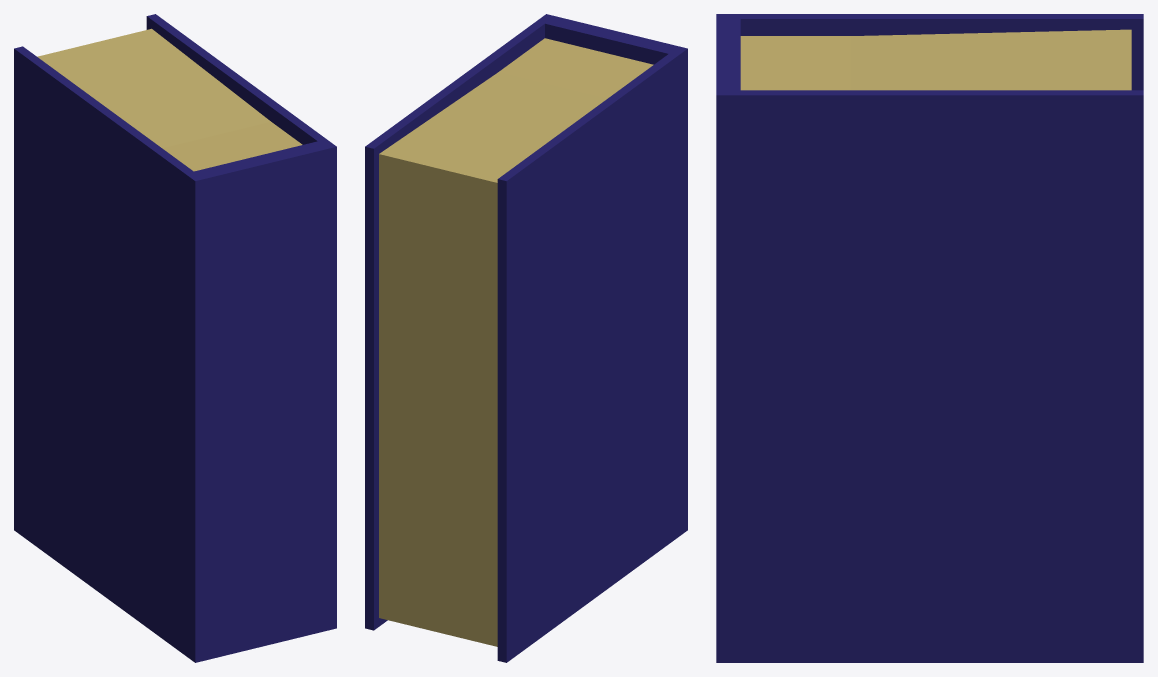
The model's file is CPI441_Fur_BookSingular_Blue.fbx.
3 views of the same model, side by side, from view 1: azimuth 30°, elevation 25°; view 2: azimuth 150°, elevation 25°; view 3: azimuth 270°, elevation 25° (orthographic). The views are drawn at different scales.
Visible parts, largest first — view 1: Cube; view 2: Cube; view 3: Cube.
Part boxes in pixels (bbox=[...]): Cube: bbox=[14, 14, 336, 662]; Cube: bbox=[365, 14, 687, 662]; Cube: bbox=[716, 14, 1143, 662].
Bounding box in the file's own units: 49.65 × 161 × 110.
